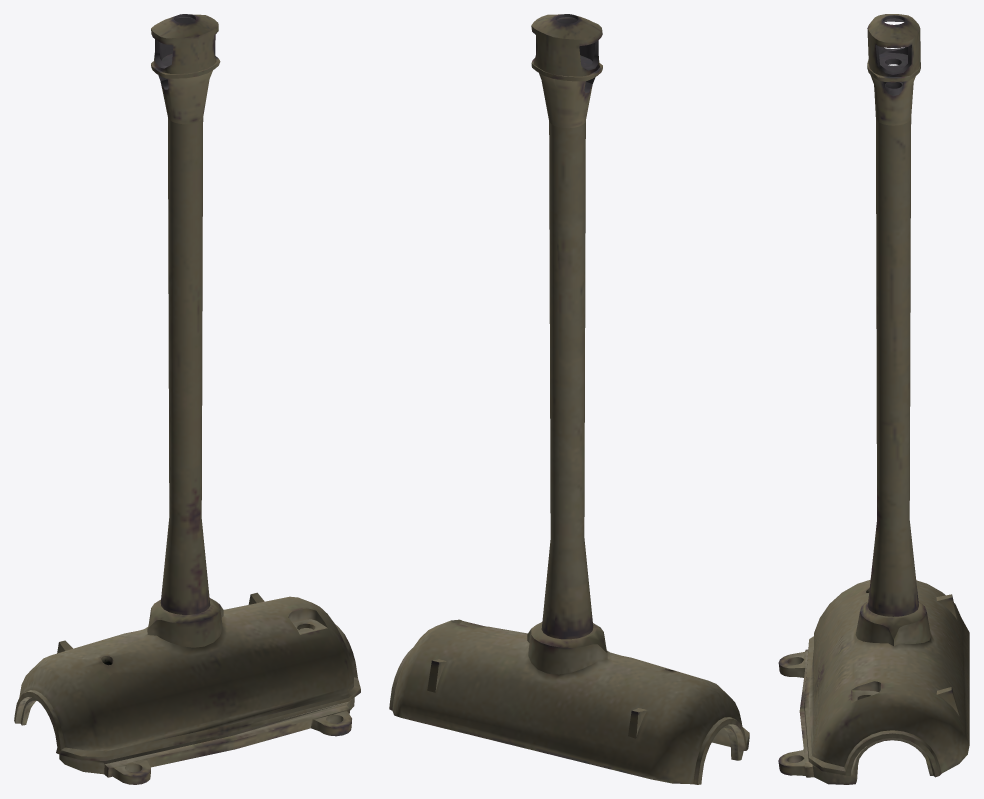
Rendered from Gun_02.glb.
The picture shows the model from 3 angles, left to right: view 1: azimuth 30°, elevation 25°; view 2: azimuth 150°, elevation 25°; view 3: azimuth 270°, elevation 25°; orthographic projection. The views are drawn at different scales.
Parts seen in each view (by area): view 1: set_0_group_0; view 2: set_0_group_0; view 3: set_0_group_0.
Part boxes in pixels (<box>): set_0_group_0: <box>14,14,360,784</box>; set_0_group_0: <box>389,14,749,784</box>; set_0_group_0: <box>778,14,969,784</box>.
Size of the model in its own units: 1.55 by 3.44 by 0.852.
1 material, 1 textured.
